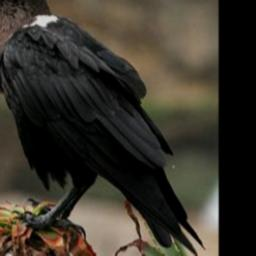Crow: (0, 0, 207, 256)
